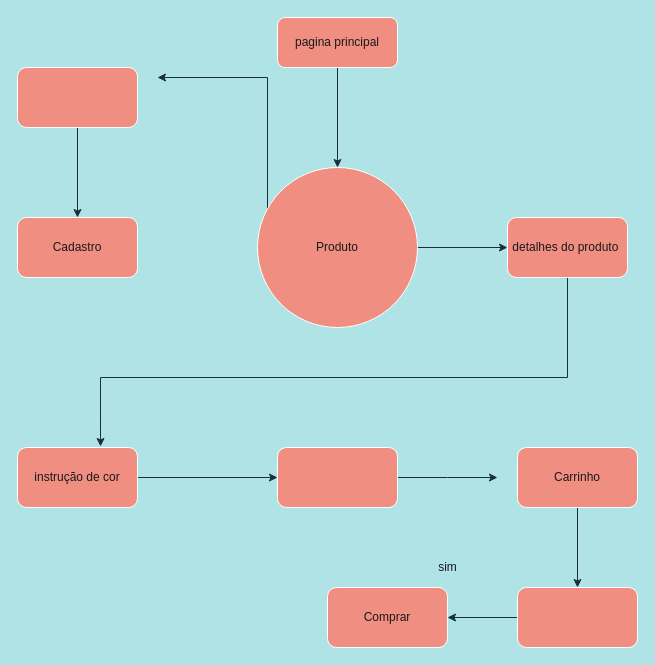
Some shapes in this 655 by 665 pixel diagram are drawn without their labels. The shapes that lost their labels are listed below. From the top down, each one's box as (x1, y1, x2, y2) in pixels, then its label:
(16, 66, 138, 128): Desconto 1° compra
(276, 446, 398, 508): solicitar login
(516, 586, 638, 648): informações de dados
